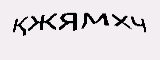Д: (34, 8, 76, 47)
Н: (17, 10, 42, 41)
Т: (73, 10, 98, 33)
Х: (97, 15, 118, 37)
Ш: (115, 18, 130, 39)
